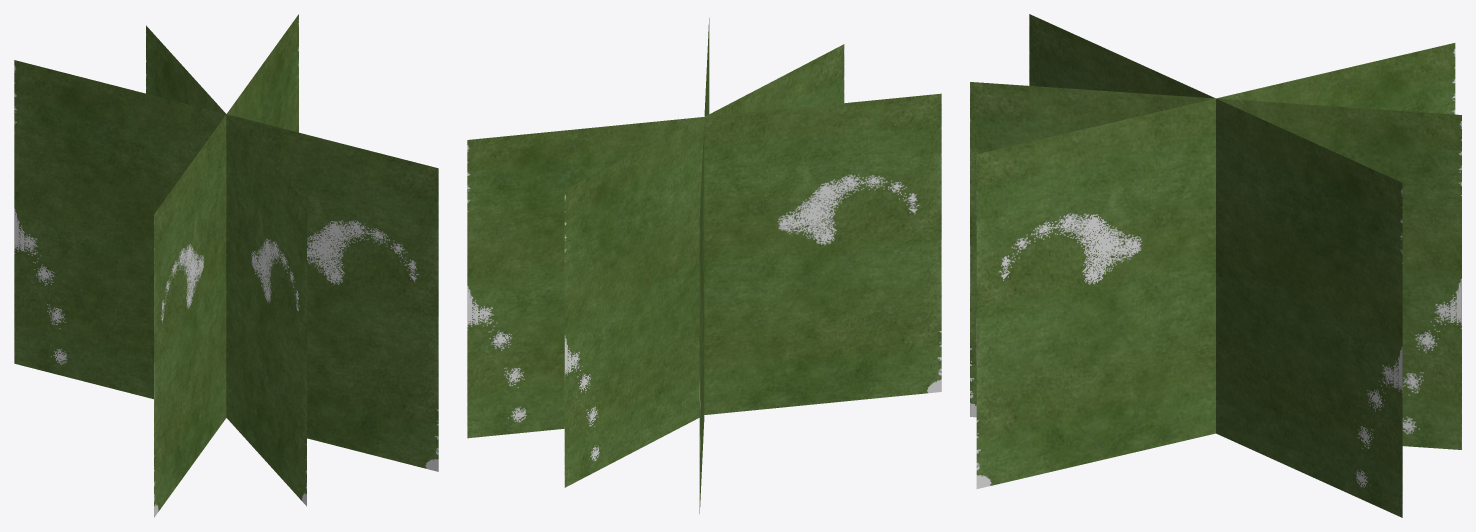
Rendered from grass_again.fbx.
The picture shows the model from 3 angles, left to right: view 1: azimuth 30°, elevation 25°; view 2: azimuth 150°, elevation 25°; view 3: azimuth 270°, elevation 25°; orthographic projection. The views are drawn at different scales.
Visible parts, largest first — view 1: polySurface768; view 2: polySurface768; view 3: polySurface768.
Boxes of the visible parts, x1,y1,x2,y2 form: polySurface768: (14,14,438,517); polySurface768: (467,18,941,513); polySurface768: (970,14,1461,517).
Size of the model in its own units: 23.08 by 21.34 by 28.39.
